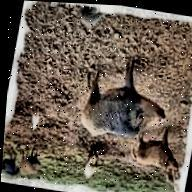boar: (80, 48, 181, 153)
